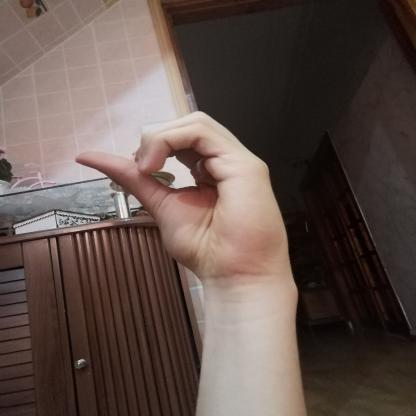WAW: (61, 101, 309, 296)
